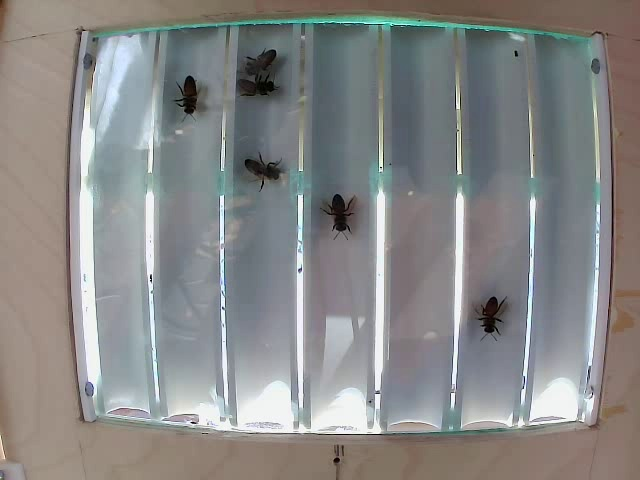bee: (469, 286, 516, 345), (174, 78, 217, 124), (330, 198, 366, 237), (236, 70, 281, 96), (246, 149, 278, 184), (245, 46, 283, 72)
